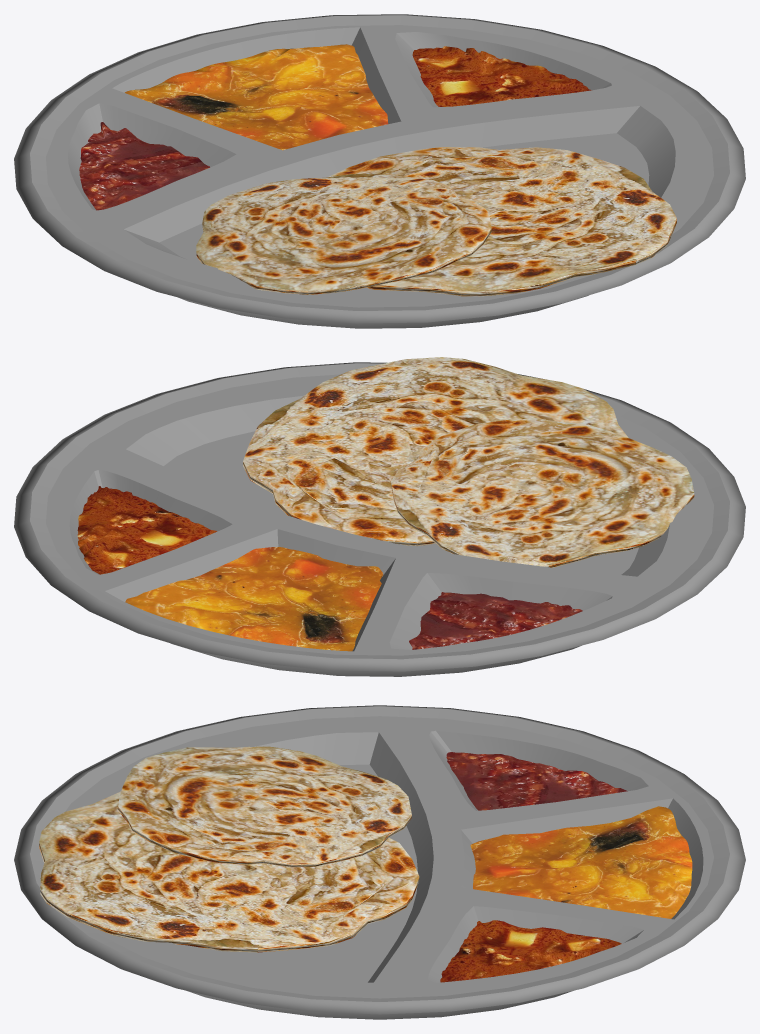
Rendered from roti canai.fbx.
3 renders of one model, top to bottom at view 1: azimuth 30°, elevation 25°; view 2: azimuth 150°, elevation 25°; view 3: azimuth 270°, elevation 25°, orthographic.
Parts seen in each view (by area): view 1: Cylinder, Cylinder.001, Cylinder.002, Cylinder.003; view 2: Cylinder, Cylinder.003, Cylinder.002, Cylinder.001; view 3: Cylinder, Cylinder.002, Cylinder.001, Cylinder.003.
Part boxes in pixels (<box>): Cylinder: <box>14,14,745,328</box>; Cylinder.001: <box>79,44,591,210</box>; Cylinder.002: <box>328,147,676,296</box>; Cylinder.003: <box>196,174,491,294</box>; Cylinder: <box>14,362,745,676</box>; Cylinder.003: <box>391,418,694,567</box>; Cylinder.002: <box>243,357,628,546</box>; Cylinder.001: <box>77,486,582,651</box>; Cylinder: <box>14,705,745,1019</box>; Cylinder.002: <box>39,791,419,952</box>; Cylinder.001: <box>440,752,692,982</box>; Cylinder.003: <box>118,746,411,867</box>.
Size of the model in its own units: 309 by 20.14 by 309.
